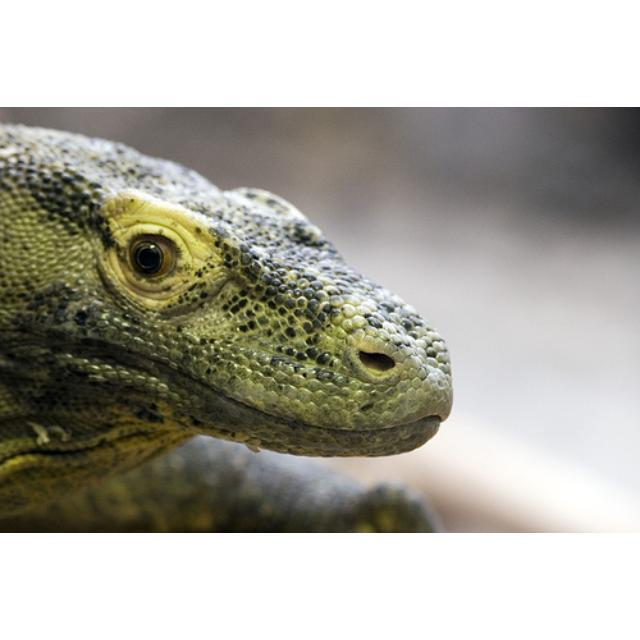KomodoDragon: (1, 120, 455, 528)
